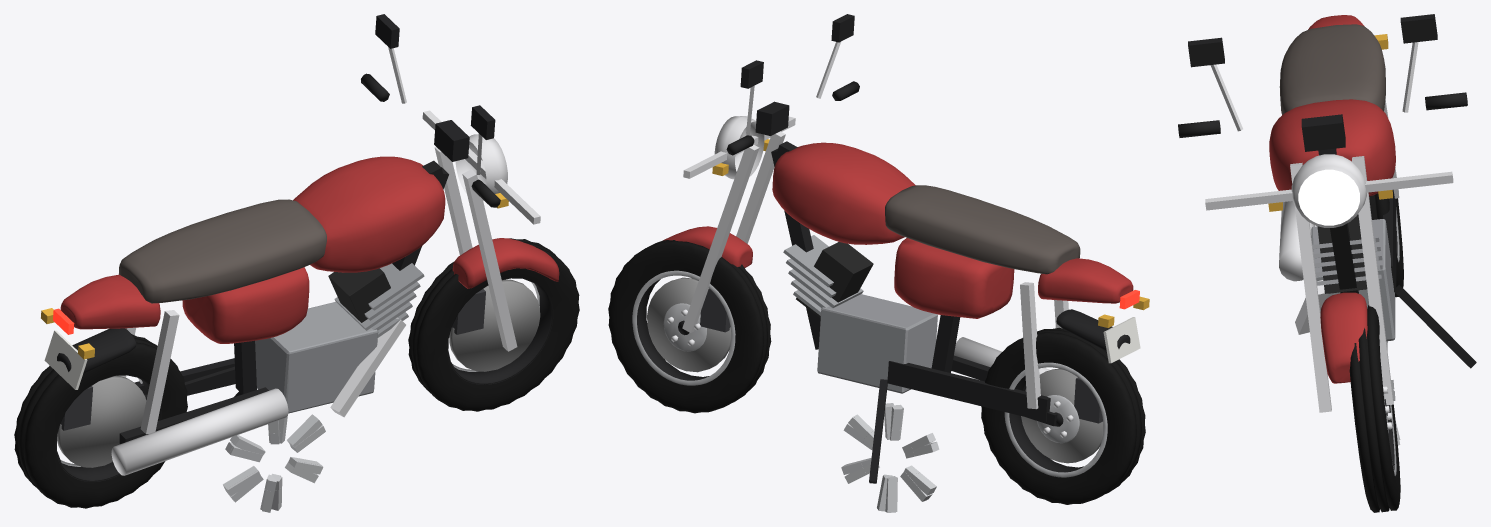
The model's file is bike_motorcycle_1.glb.
The picture shows the model from 3 angles, left to right: view 1: azimuth 30°, elevation 25°; view 2: azimuth 150°, elevation 25°; view 3: azimuth 270°, elevation 25°; orthographic projection. The views are drawn at different scales.
Visible parts, largest first — view 1: bike_motorcycle_1; view 2: bike_motorcycle_1; view 3: bike_motorcycle_1.
Part boxes in pixels (x1,y1,x2,y2): bike_motorcycle_1: (14,14,579,512); bike_motorcycle_1: (608,14,1149,512); bike_motorcycle_1: (1178,14,1476,512).
Bounding box in the file's own units: 2.06 × 1.59 × 0.8648.
